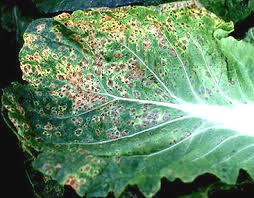Bok-Choy-Diseased: (10, 10, 254, 198)
